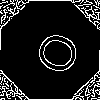O: (25, 25, 83, 78)
